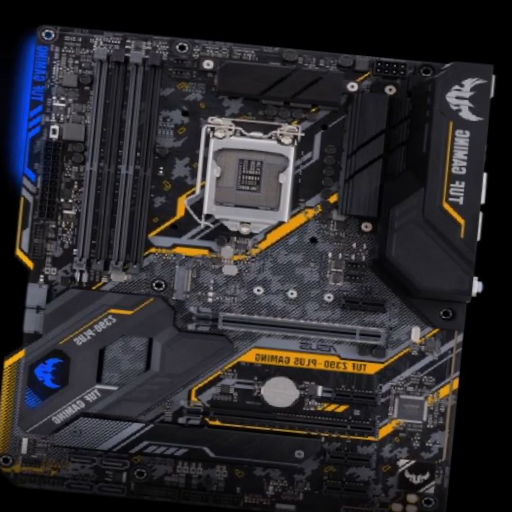CPU: (203, 120, 299, 234)
GPU: (190, 304, 390, 347), (185, 401, 379, 439)
MOTHERBOARD: (29, 31, 493, 512)
RAM: (73, 48, 164, 276)
SSD: (173, 265, 192, 302)
